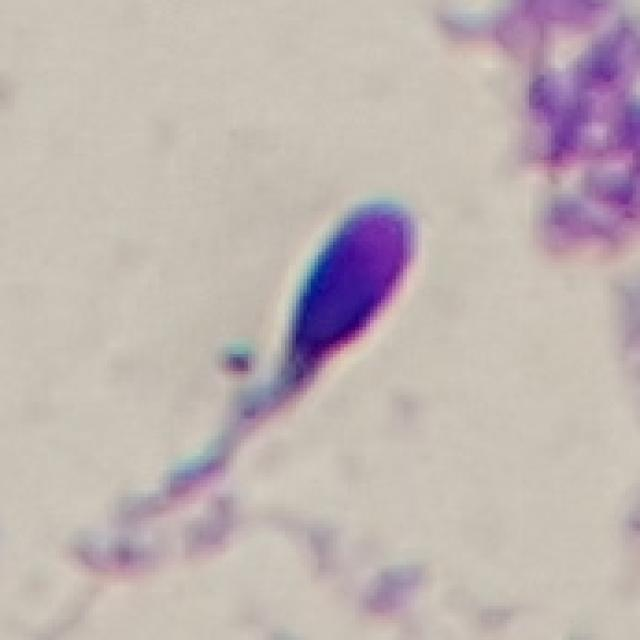abnormal sperm: (152, 193, 445, 529)
